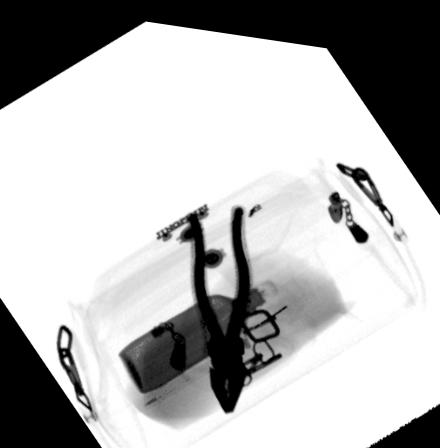Pliers: (184, 197, 253, 407)
